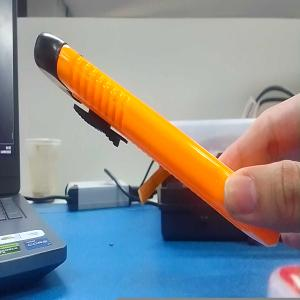estilete: (64, 48, 234, 220)
